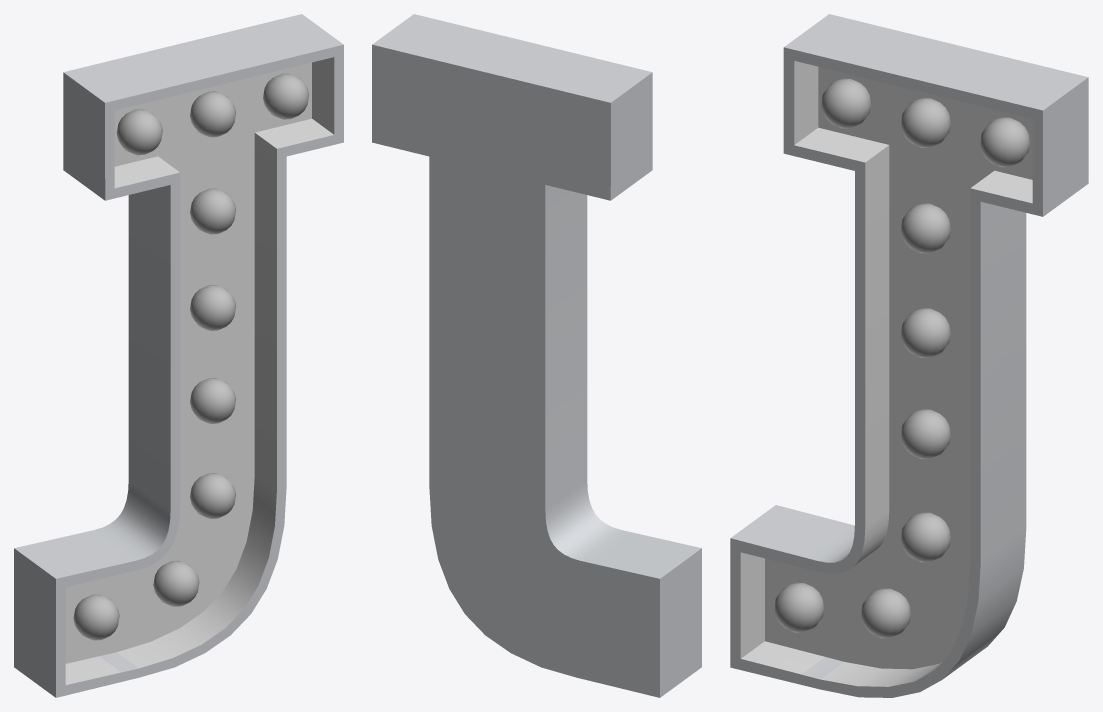
Rendered from LettersBulb01_J.FBX.
3 views of the same model, side by side, from view 1: azimuth 30°, elevation 25°; view 2: azimuth 150°, elevation 25°; view 3: azimuth 330°, elevation 25° (orthographic). The views are drawn at different scales.
Visible parts, largest first — view 1: LettersBulb01_J; view 2: LettersBulb01_J; view 3: LettersBulb01_J.
Part boxes in pixels (<box>): LettersBulb01_J: <box>14,14,343,697</box>; LettersBulb01_J: <box>372,14,701,697</box>; LettersBulb01_J: <box>730,14,1088,697</box>.
Size of what is drawn, in the model's own units: 0.6171 by 1.19 by 0.1563.
